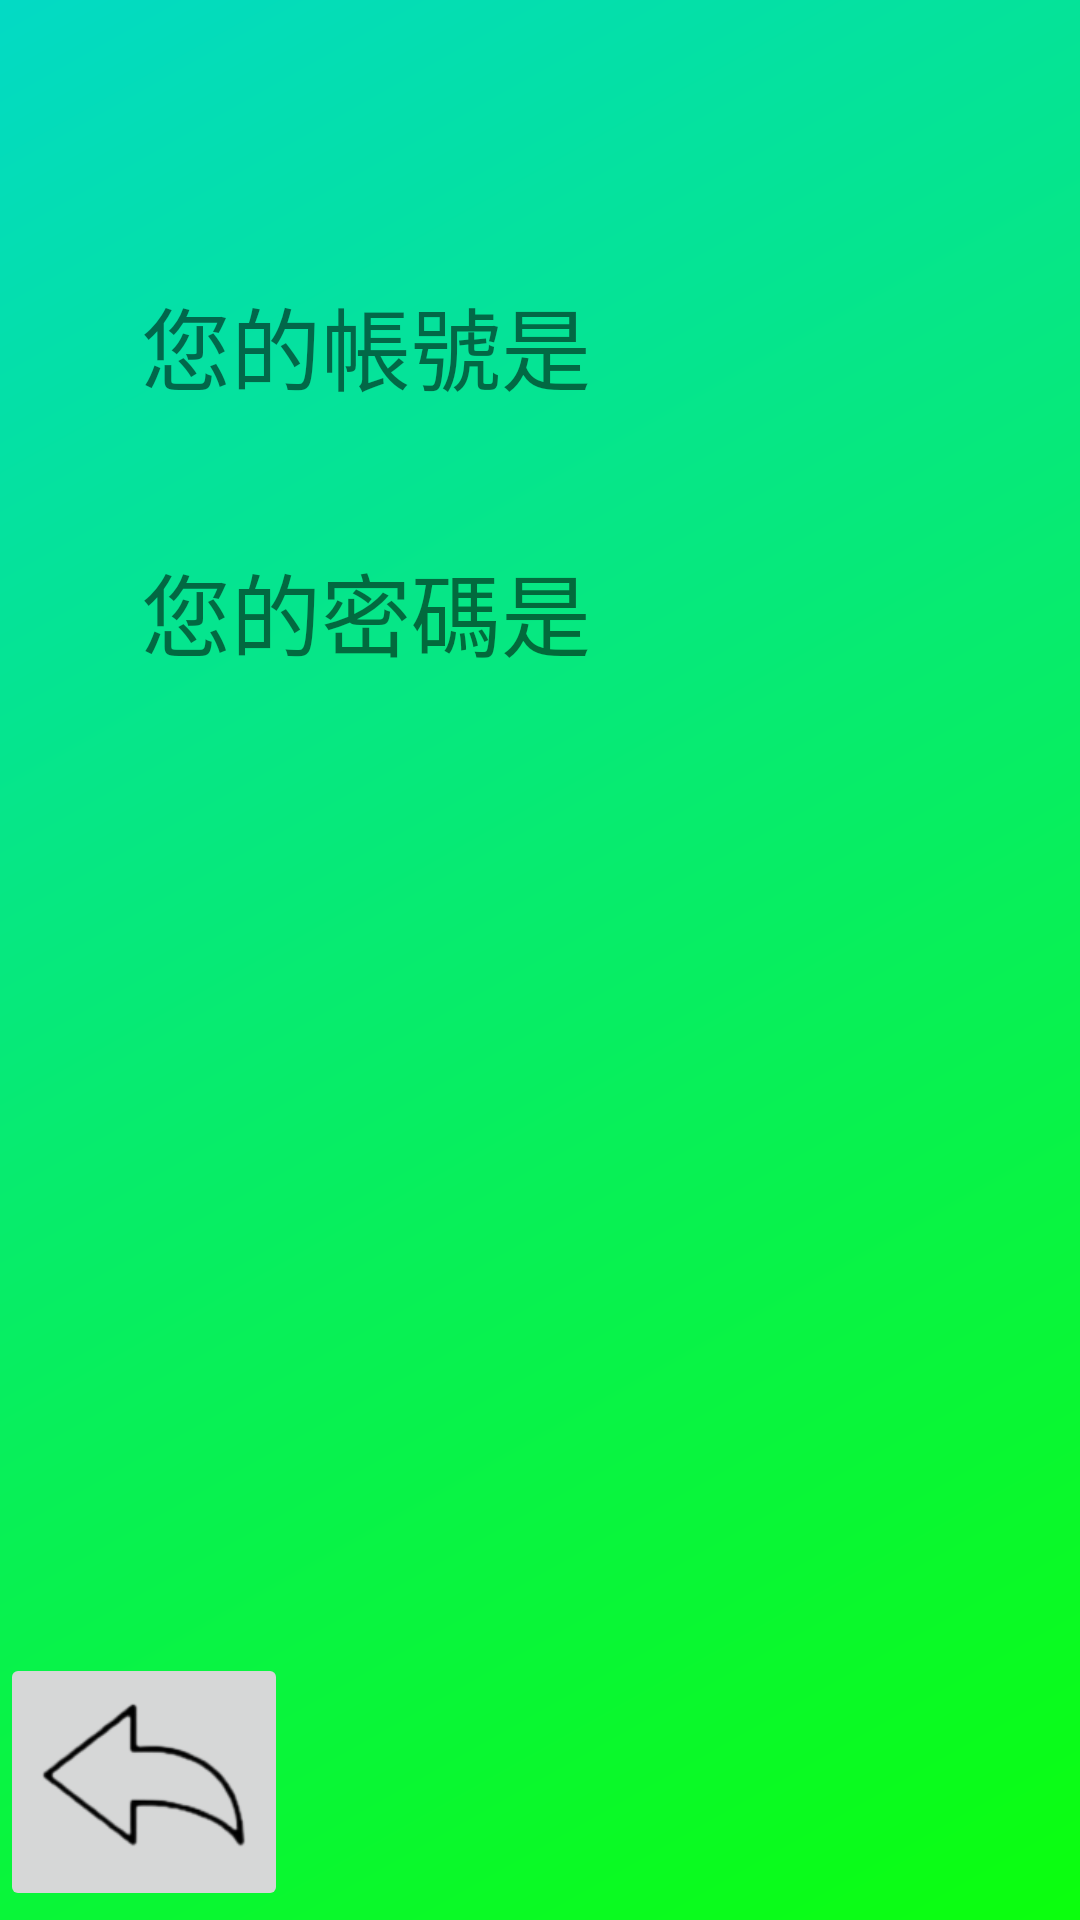

Icon bounding boxes for this 1080 × 1920 phone screenshot, format (x1, y1, x2, y2):
back: (12, 1671, 276, 1893)
